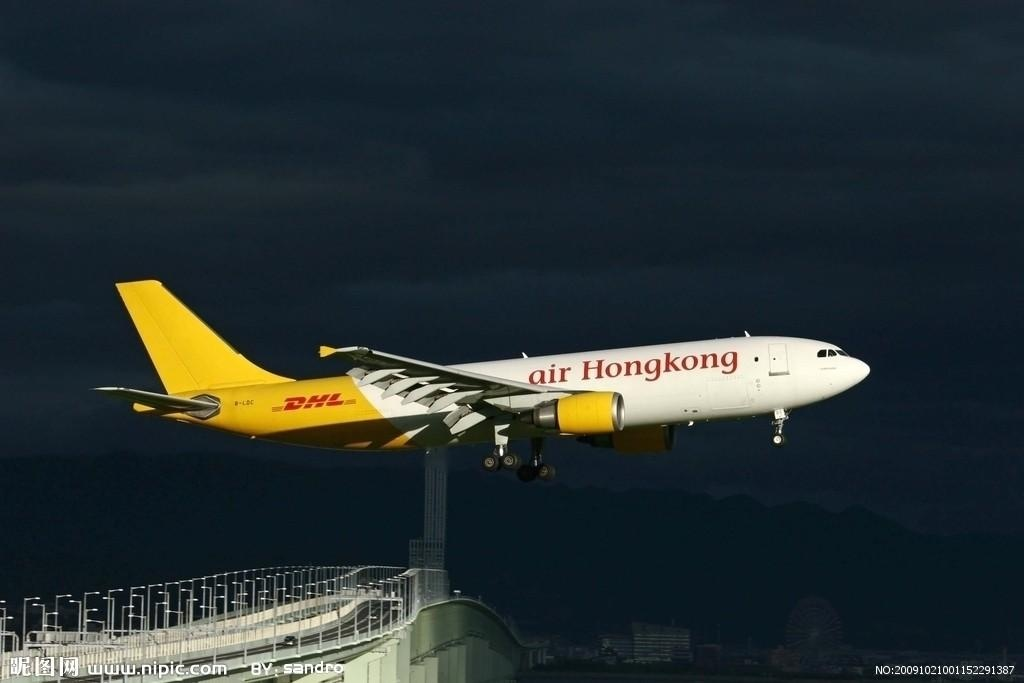airplane: (88, 271, 885, 481)
